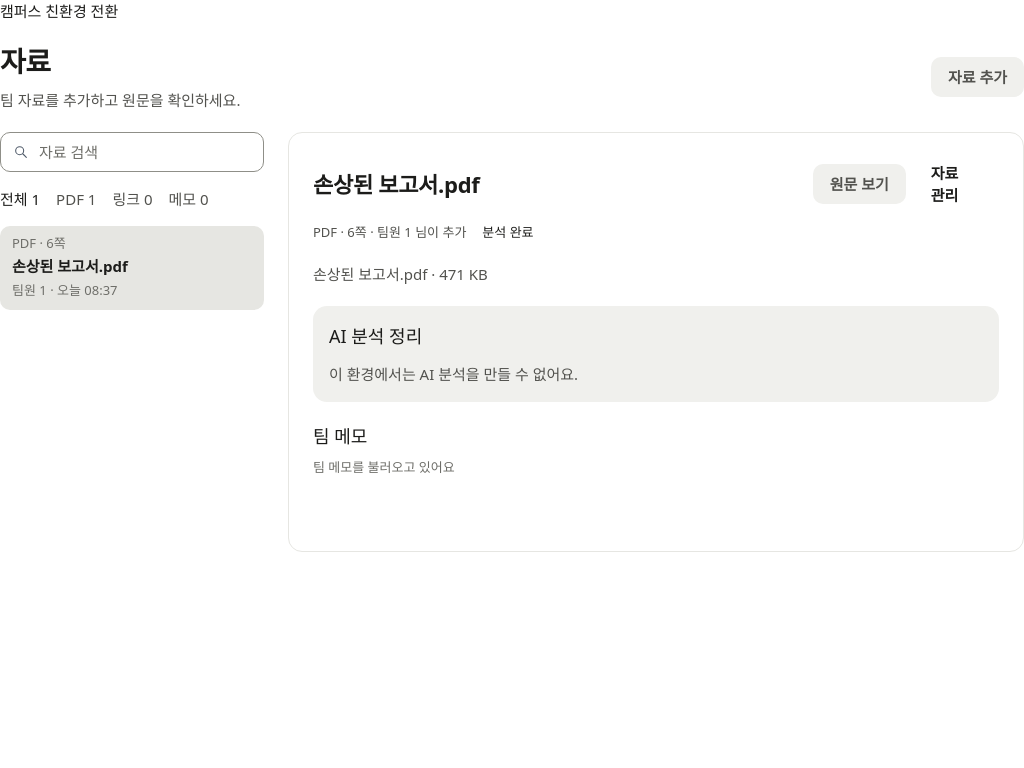
Test case: PDF 파일은 열려도 그리기에 계속 실패하면 자동 재발급은 한 번으로 제한한다
Click the button "원문 보기": {"x": 859, "y": 184} [813,164,906,204]
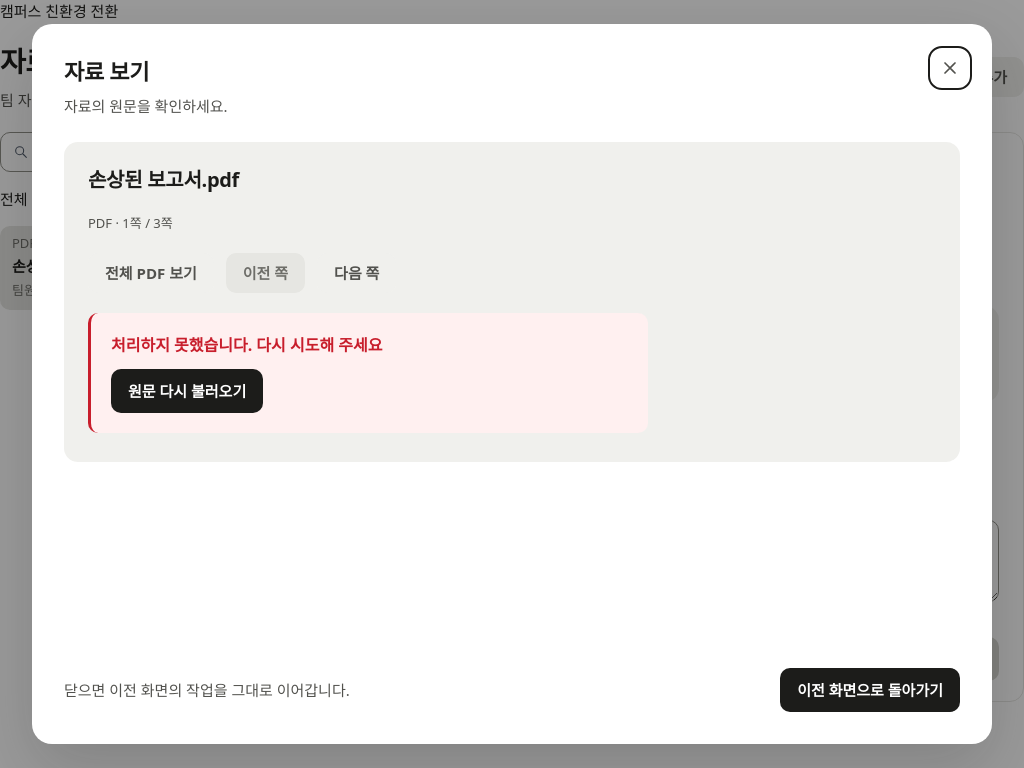
Now the button "원문 다시 불러오기" is shown, box [111,369,263,413]
